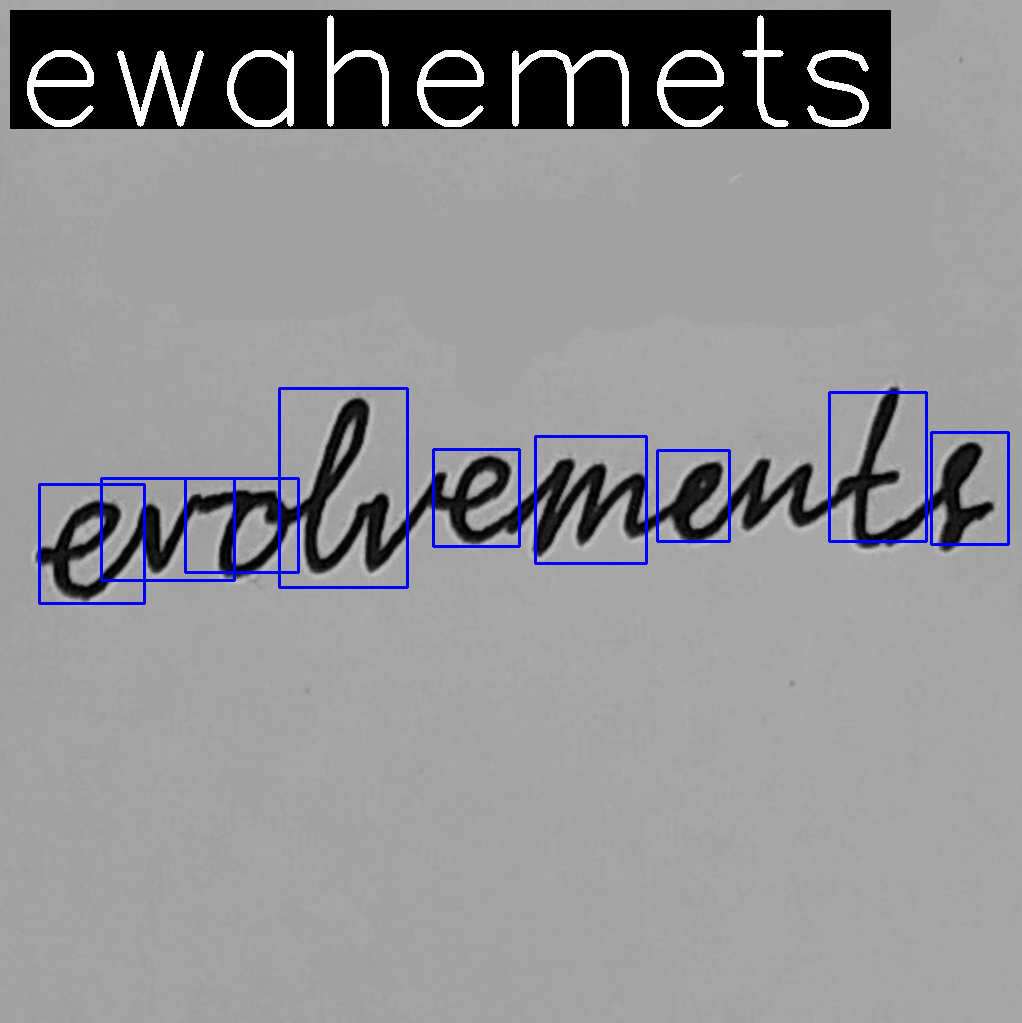e: (44, 493, 126, 606), (451, 449, 515, 548), (669, 455, 728, 546)
l: (298, 395, 374, 575)
m: (529, 453, 655, 557)
n: (737, 452, 820, 540)
o: (212, 484, 293, 587)
s: (926, 435, 999, 554)
t: (834, 382, 911, 552)
v: (355, 470, 448, 574), (131, 486, 206, 578)
